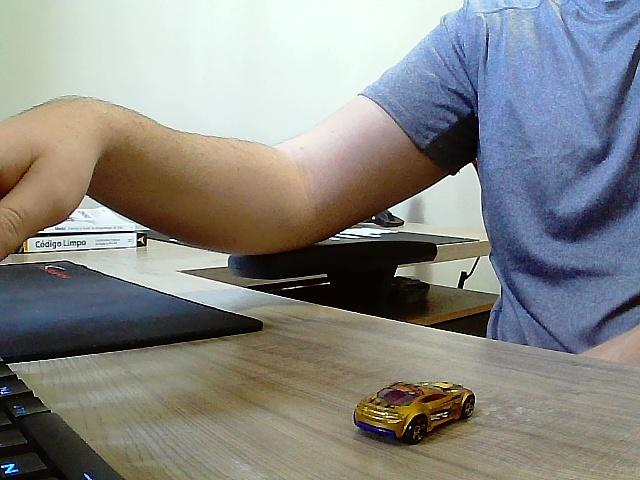Carro: (353, 383, 477, 446)
